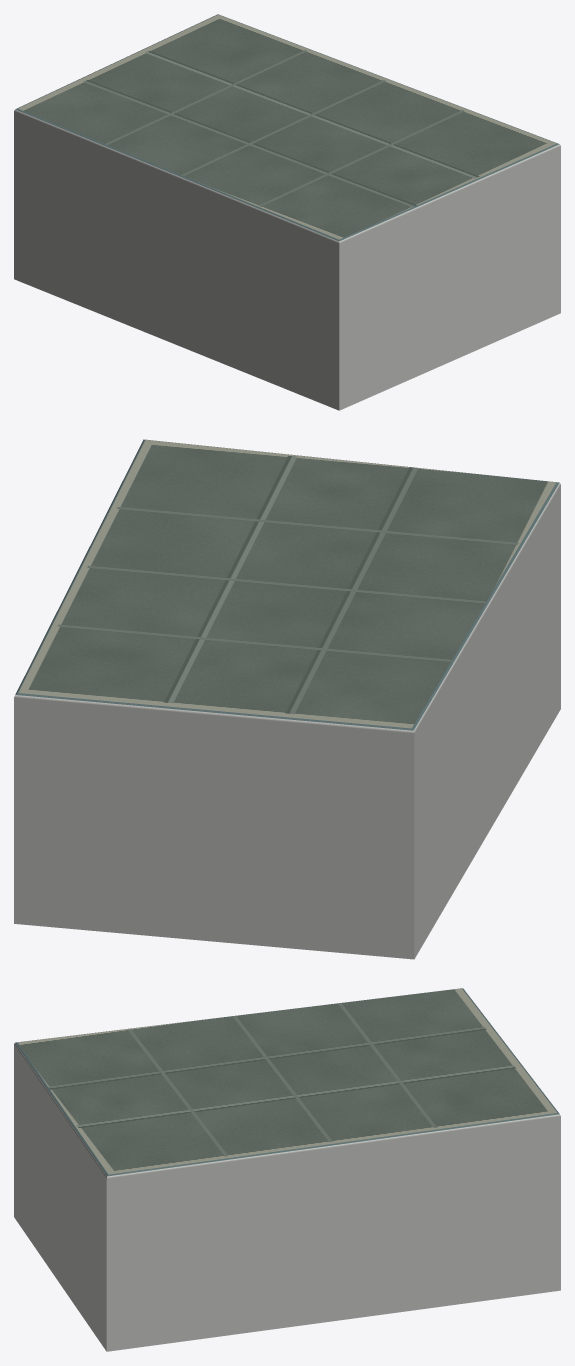
File: intact.glb
3 views of the same model, one above another, from view 1: azimuth 30°, elevation 25°; view 2: azimuth 150°, elevation 25°; view 3: azimuth 270°, elevation 25° (orthographic). The views are drawn at different scales.
Visible parts, largest first — view 1: SM_gh52_Intact_00; view 2: SM_gh52_Intact_00; view 3: SM_gh52_Intact_00.
Part boxes in pixels (x1,y1,x2,y2): SM_gh52_Intact_00: [14, 14, 560, 410]; SM_gh52_Intact_00: [14, 439, 560, 959]; SM_gh52_Intact_00: [14, 988, 560, 1351].
Size of the model in its own units: 1.8 by 0.7848 by 2.2.
3 materials, 1 textured.
